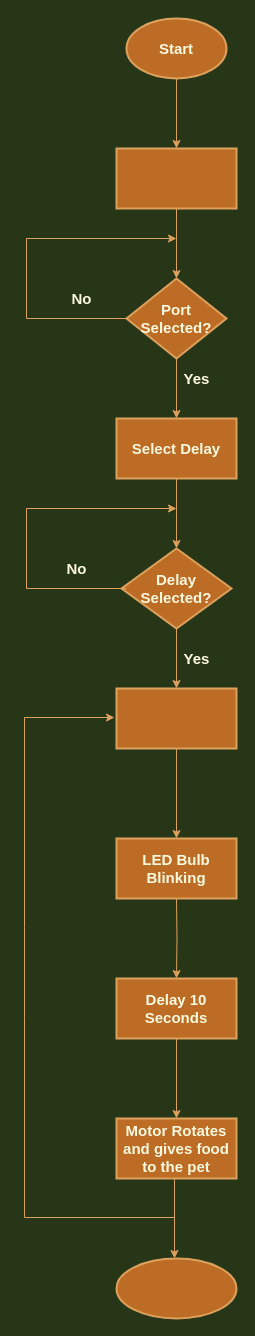
Image size: 255x1336. Some labels were removed from this diagram. The centre of each missing label's shape, as x and y in pixels:
"End" belongs at [176,1288].
"Initialization" belongs at [176,178].
"Initiate Servo Motor" belongs at [176,718].
